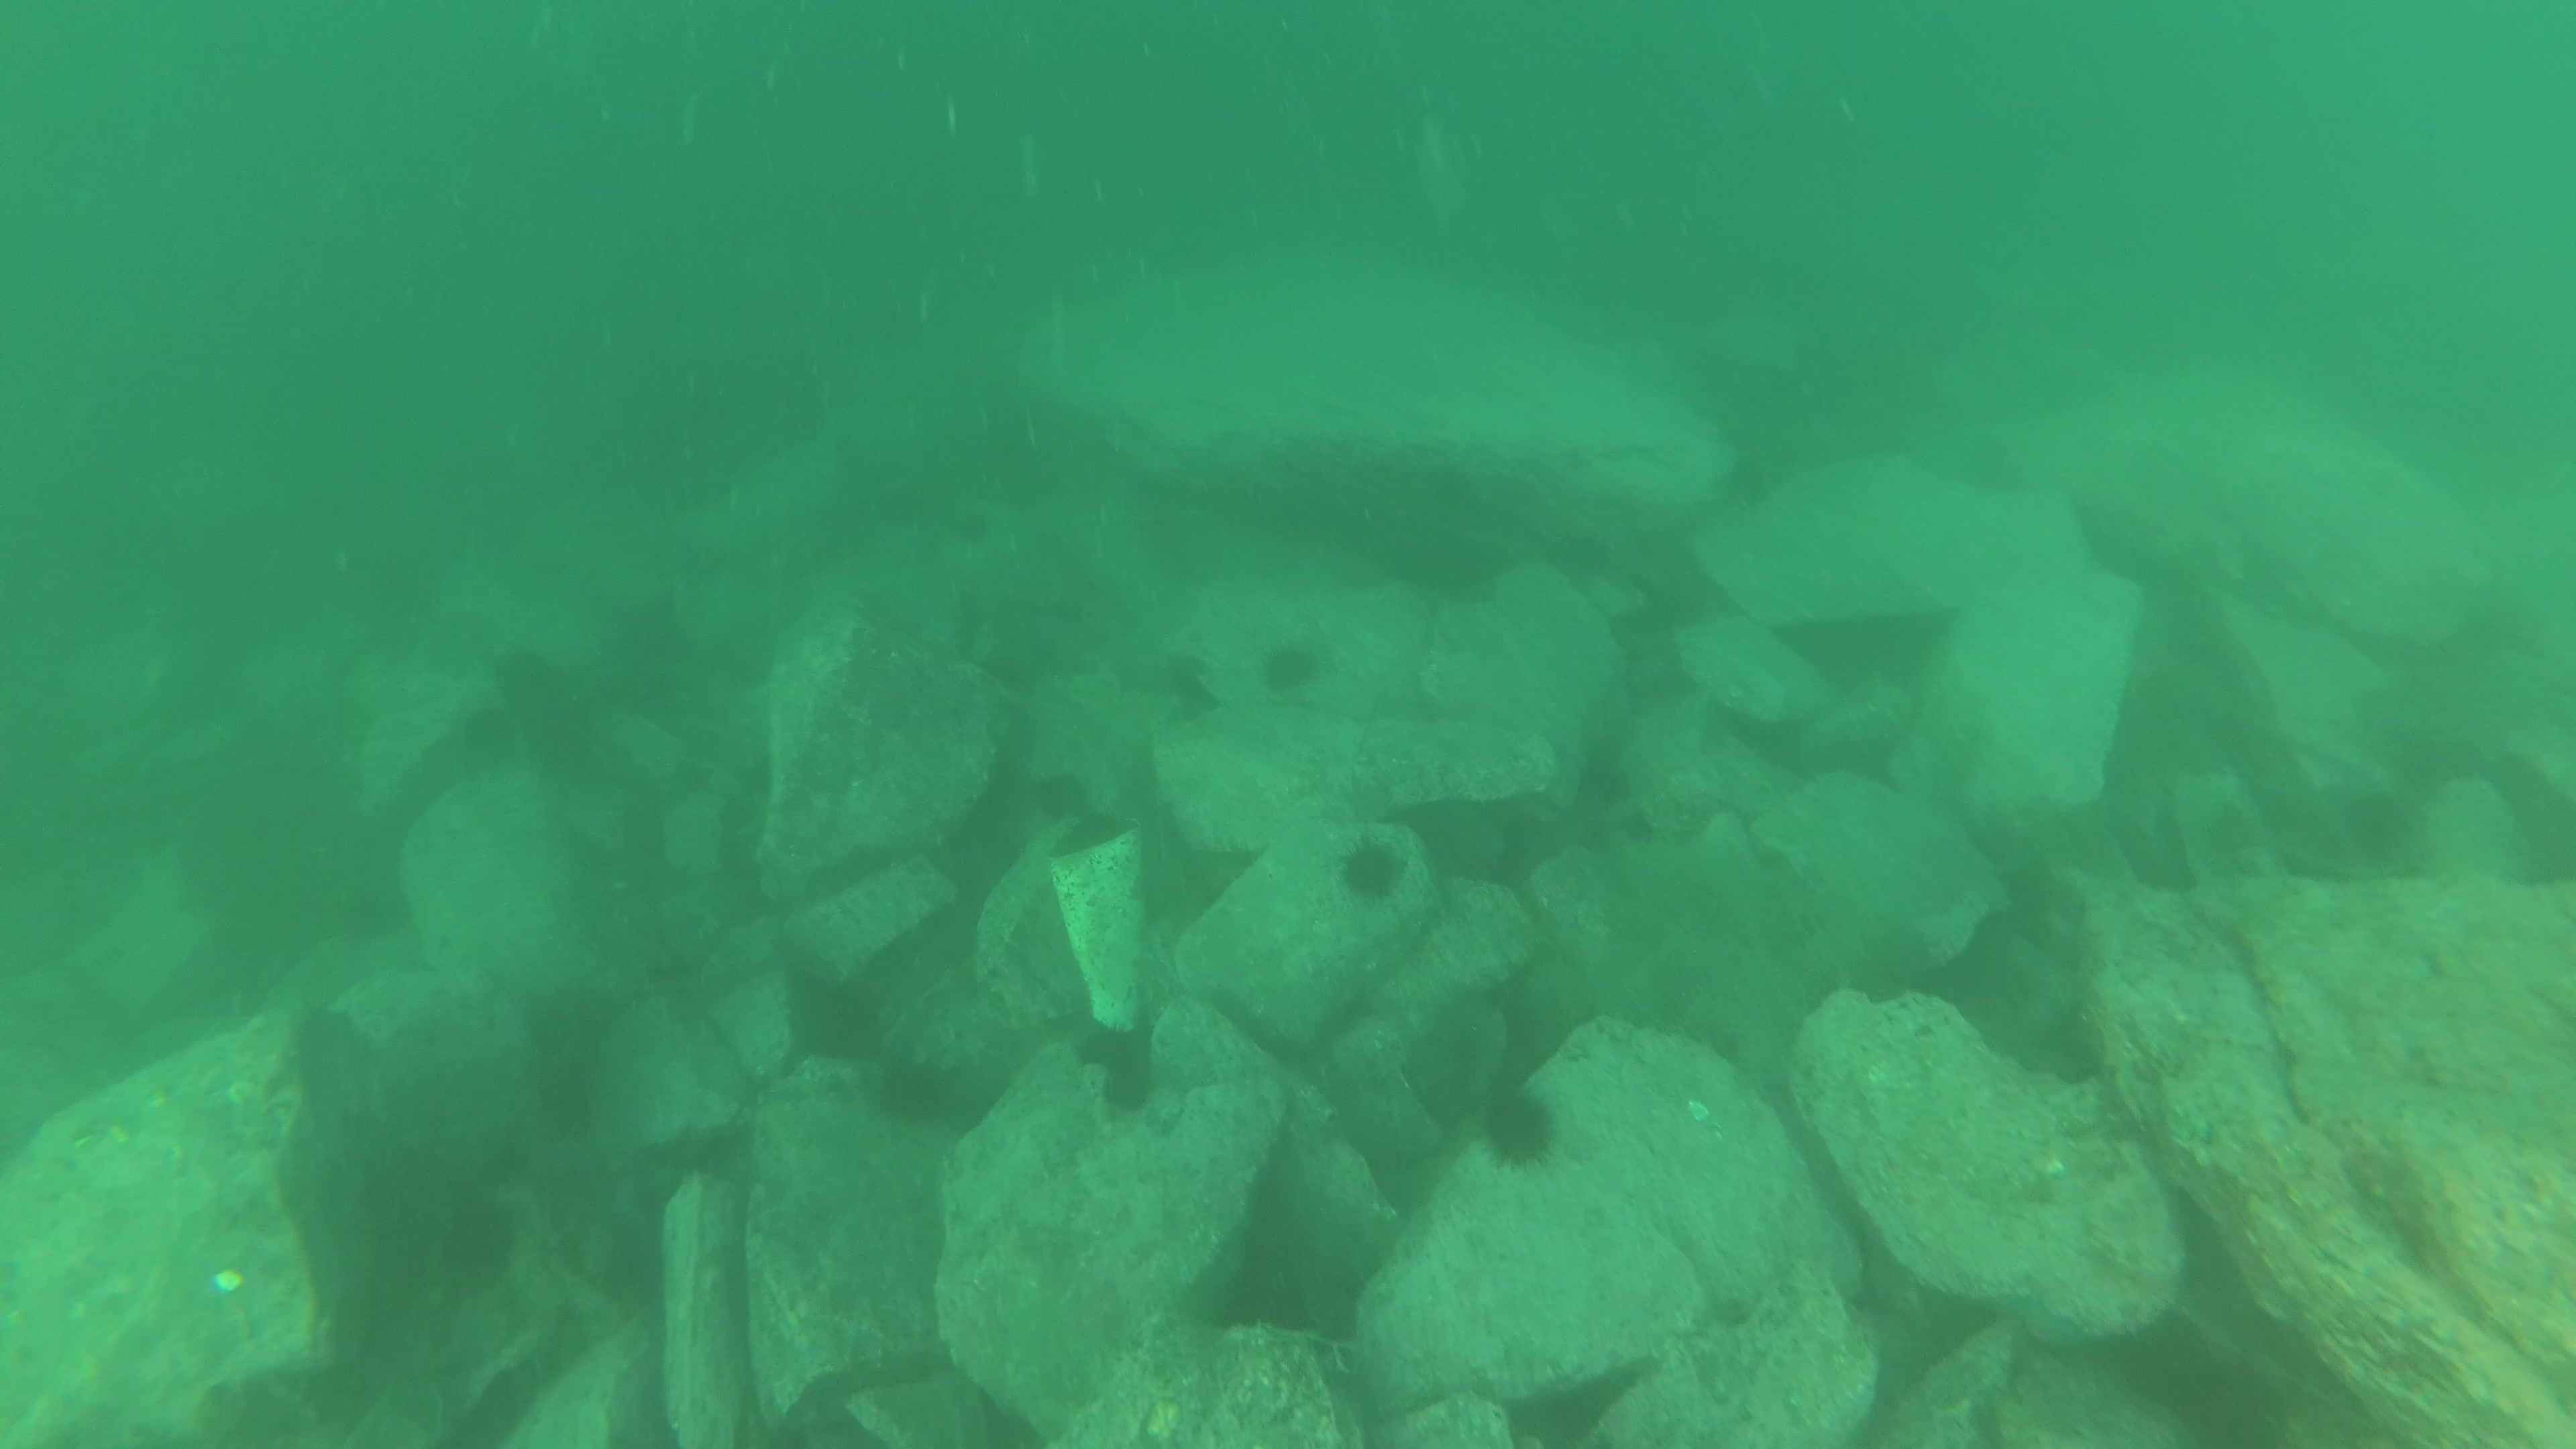echinus: (805, 977, 892, 1069), (1476, 1086, 1560, 1169), (1079, 1024, 1157, 1113), (870, 1054, 947, 1131), (1343, 842, 1405, 908), (1033, 768, 1102, 826)
